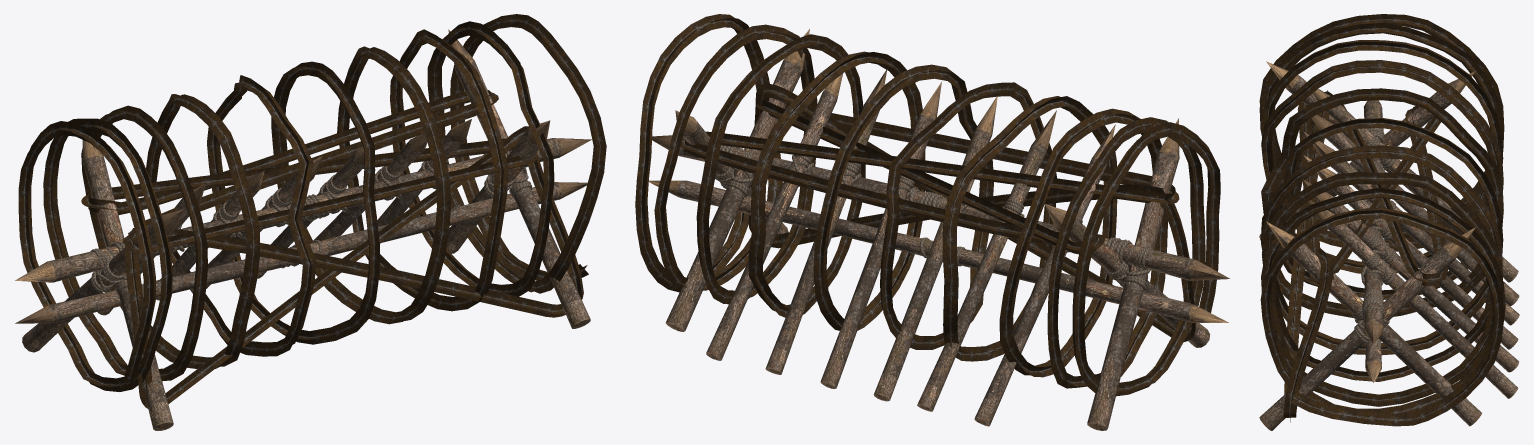
File: Wood_Obstacles_04.FBX
The picture shows the model from 3 angles, left to right: view 1: azimuth 30°, elevation 25°; view 2: azimuth 150°, elevation 25°; view 3: azimuth 270°, elevation 25°; orthographic projection. The views are drawn at different scales.
Parts seen in each view (by area): view 1: Wood_Obstacles_Wire_04, Wood_Obstacles_04; view 2: Wood_Obstacles_Wire_04, Wood_Obstacles_04; view 3: Wood_Obstacles_Wire_04, Wood_Obstacles_04.
Boxes of the visible parts, x1,y1,x2,y2 form: Wood_Obstacles_Wire_04: (18,14,606,408); Wood_Obstacles_04: (15,29,591,430); Wood_Obstacles_Wire_04: (635,14,1220,396); Wood_Obstacles_04: (648,29,1229,430); Wood_Obstacles_Wire_04: (1259,14,1505,426); Wood_Obstacles_04: (1259,61,1519,430).
Bounding box in the file's own units: 468 × 202 × 204.
